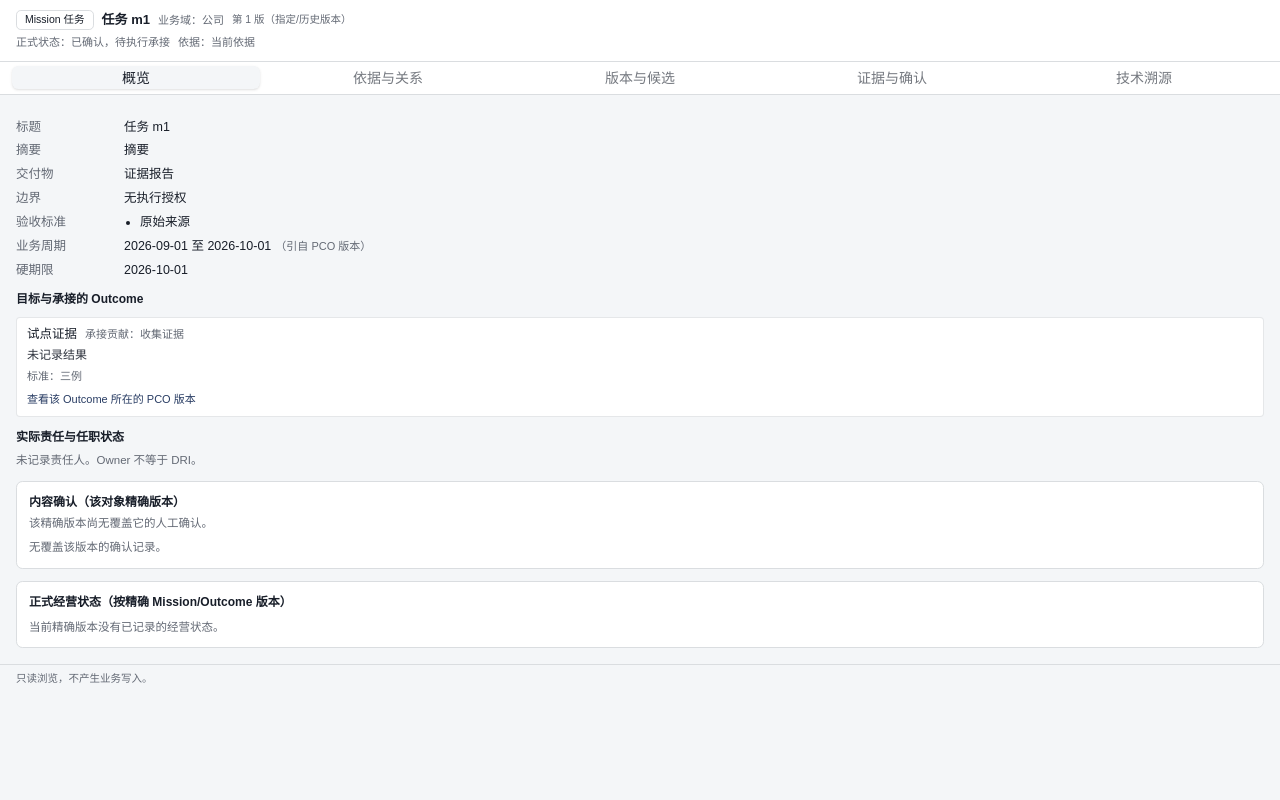
Scenario: candidate diff readability › translates known enums and folds model-trace fields
What coordinates should you click on to do the following:
click the tab "版本与候选"
I would click on:
 (640, 78)
Its box is [516,66,764,89].
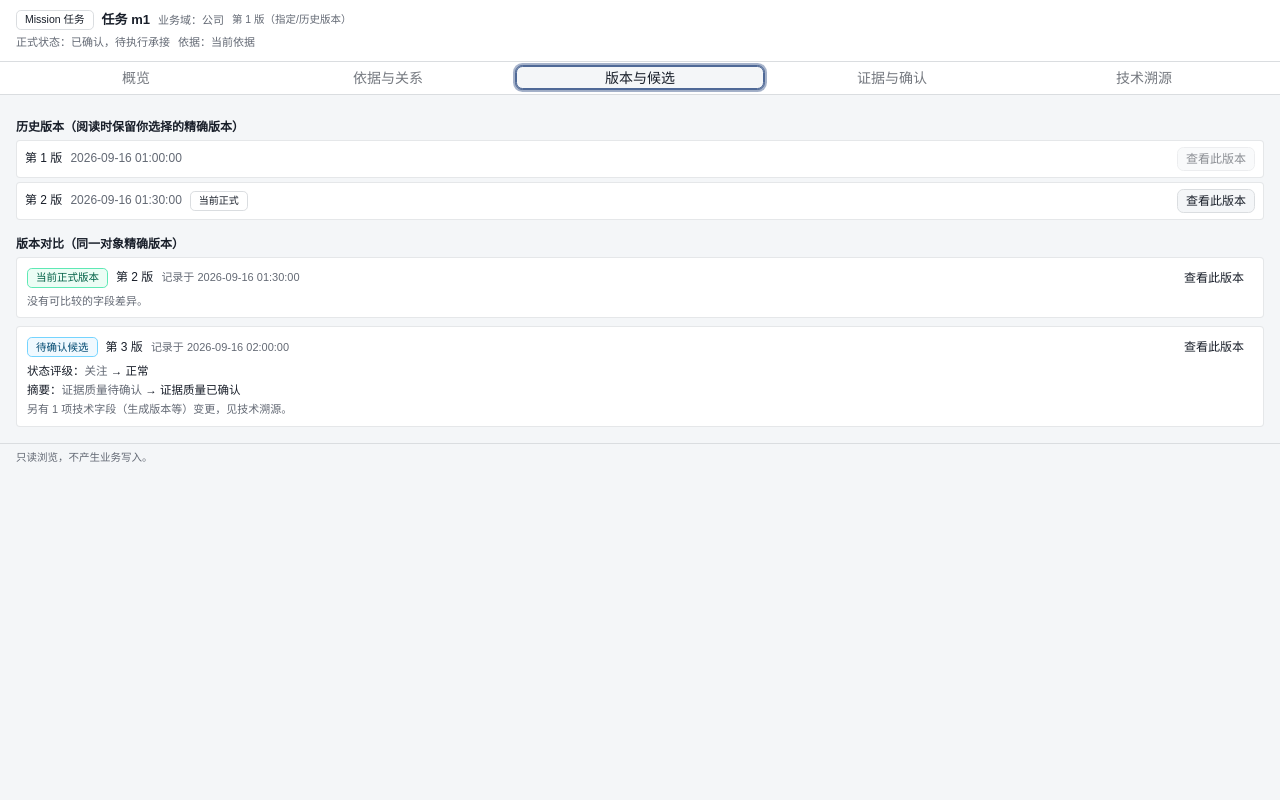
Check: the text "关注" is shown, box [84,366,108,378]
Check: the text "正常" is shown, box [125,366,148,378]
Check: the text "证据质量待确认" is shown, box [62,384,142,396]
